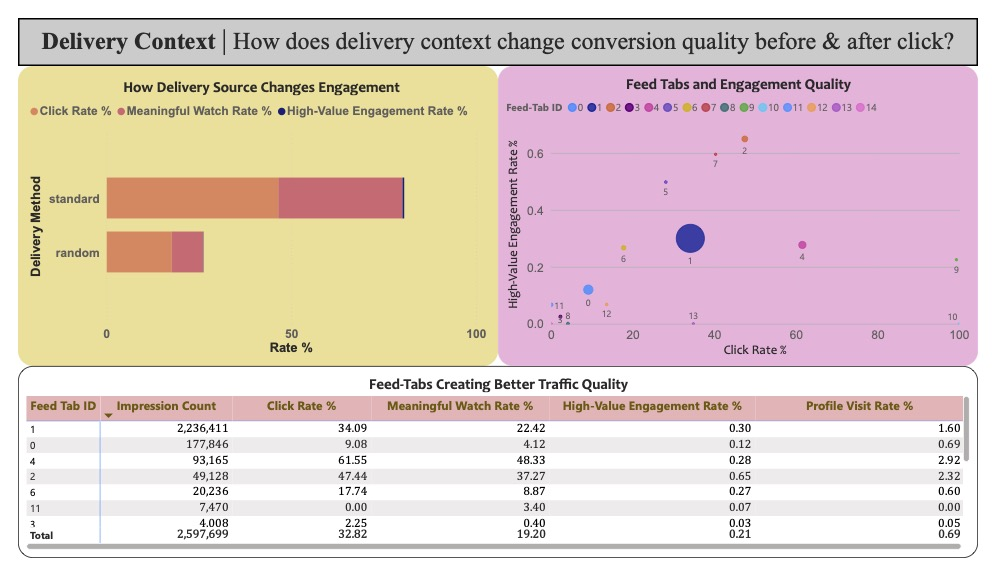

This screenshot's page, from the dashboard's own definition file:
{"tool":"powerbi","page":{"name":"Delivery Context","canvas":[1280,720],"ordinal":1},"visuals":[{"type":"textbox","box":[0,0,1280,64],"z":0},{"type":"barChart","title":"How Delivery Source Changes Engagement","fields":{"Category":["traffic_source_funnel_summary.traffic_source"],"Y":["Avg(traffic_source_funnel_summary.click_rate_percent)","Avg(traffic_source_funnel_summary.meaningful_watch_rate_percent)","Avg(traffic_source_funnel_summary.high_value_engagement_rate_percent)"]},"box":[0,64,640,400],"z":1000},{"type":"pivotTable","title":"Feed-Tabs Creating Better Traffic Quality","fields":{"Rows":["feed_tab_funnel_summary.feed_tab_id"],"Values":["Sum(feed_tab_funnel_summary.impression_count)","Avg(feed_tab_funnel_summary.click_rate_percent)","Avg(feed_tab_funnel_summary.meaningful_watch_rate_percent)","Avg(feed_tab_funnel_summary.high_value_engagement_rate_percent)","Avg(feed_tab_funnel_summary.profile_enter_rate_percent)"]},"box":[0,464,1280,256],"z":2000},{"type":"scatterChart","title":"Feed Tabs and Engagement Quality","fields":{"X":["Avg(feed_tab_funnel_summary.click_rate_percent)"],"Y":["Avg(feed_tab_funnel_summary.high_value_engagement_rate_percent)"],"Category":["feed_tab_funnel_summary.feed_tab_id"],"Size":["Sum(feed_tab_funnel_summary.impression_count)"],"Series":["feed_tab_funnel_summary.feed_tab_id"]},"box":[640,64,640,400],"z":3000}]}

Visuals, with their boxes in screenshot pixels (x1, y1, x2, y2), scaled from the page's 1280x720 canvas onto the 996x576 screenshot:
textbox: rect(0, 0, 995, 51)
"How Delivery Source Changes Engagement" barChart: rect(0, 51, 498, 371)
"Feed-Tabs Creating Better Traffic Quality" pivotTable: rect(0, 371, 995, 575)
"Feed Tabs and Engagement Quality" scatterChart: rect(498, 51, 995, 371)
